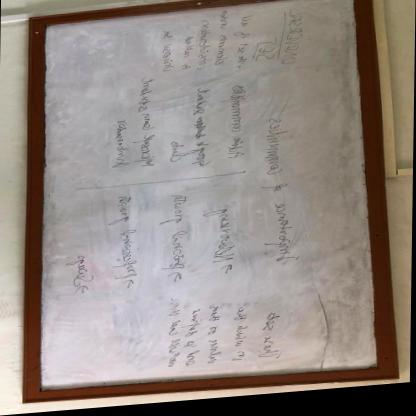Handwritten text: (256, 112, 306, 269), (106, 197, 150, 285), (126, 74, 160, 174), (156, 193, 194, 275), (218, 83, 253, 167), (185, 88, 215, 178), (201, 208, 243, 269), (155, 298, 182, 375), (147, 24, 182, 79), (227, 307, 255, 371), (256, 309, 287, 365), (105, 120, 134, 175), (204, 307, 230, 368), (282, 13, 307, 74), (182, 310, 206, 372), (191, 21, 214, 76), (211, 9, 232, 69), (62, 253, 98, 287), (233, 16, 254, 72), (164, 140, 189, 173), (252, 41, 281, 69), (178, 36, 194, 80)
